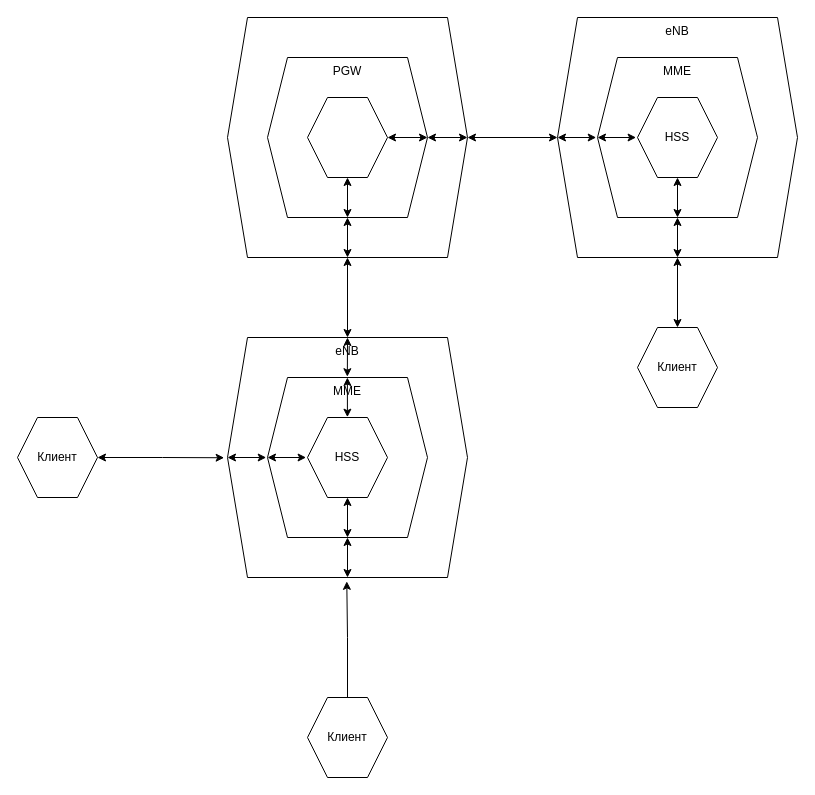
This 815x795 diagram has some shape labels left out. Each missing label, with the box of its shape:
IP: (306, 96, 388, 178)
SGW: (226, 16, 468, 258)
